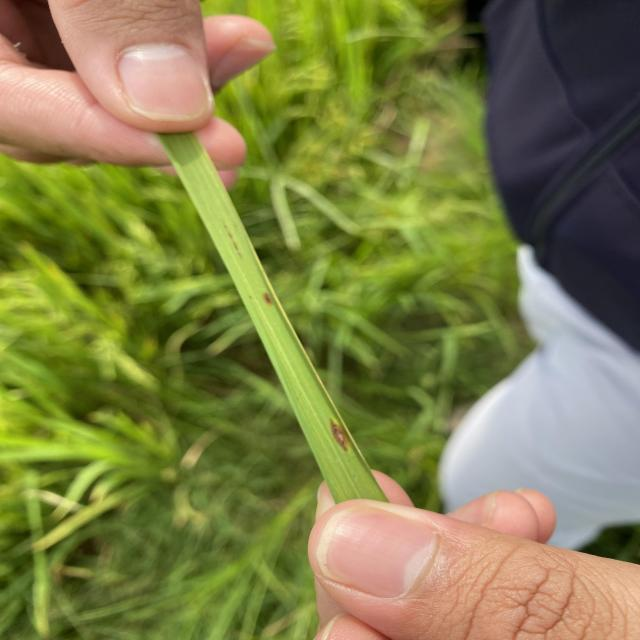Dom nau: (329, 419, 350, 451), (261, 291, 274, 307)
